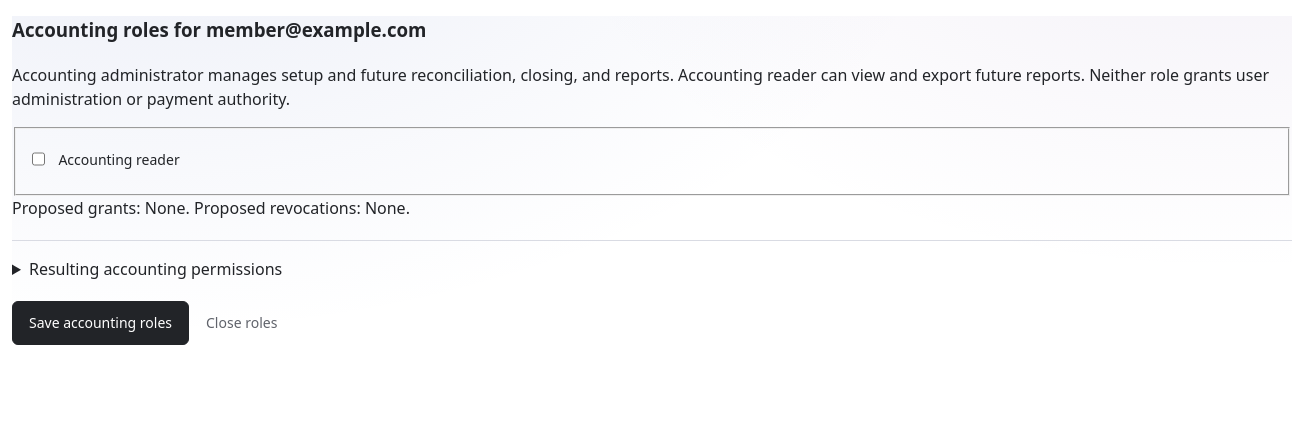
it: reads current membership after a historical replay receipt instead of resurrecting its grants
Click the checkbox labelled "Accounting reader": [38, 159] box [32,137,45,181]
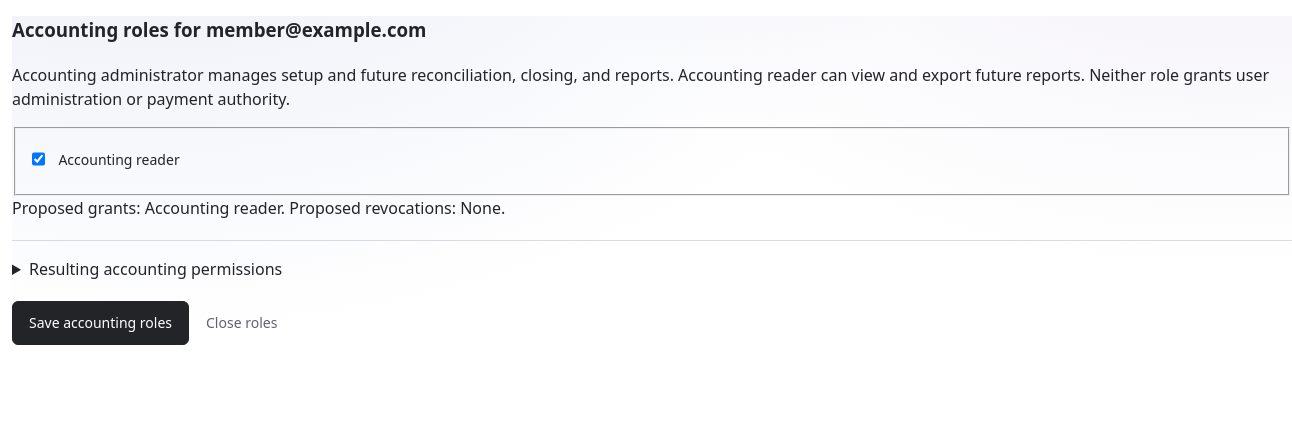
Note: WHEN the command succeeds THEN the editor shows current membership from readback
Click the button "Save accounting roles": [100, 323] box [12,301,189,345]
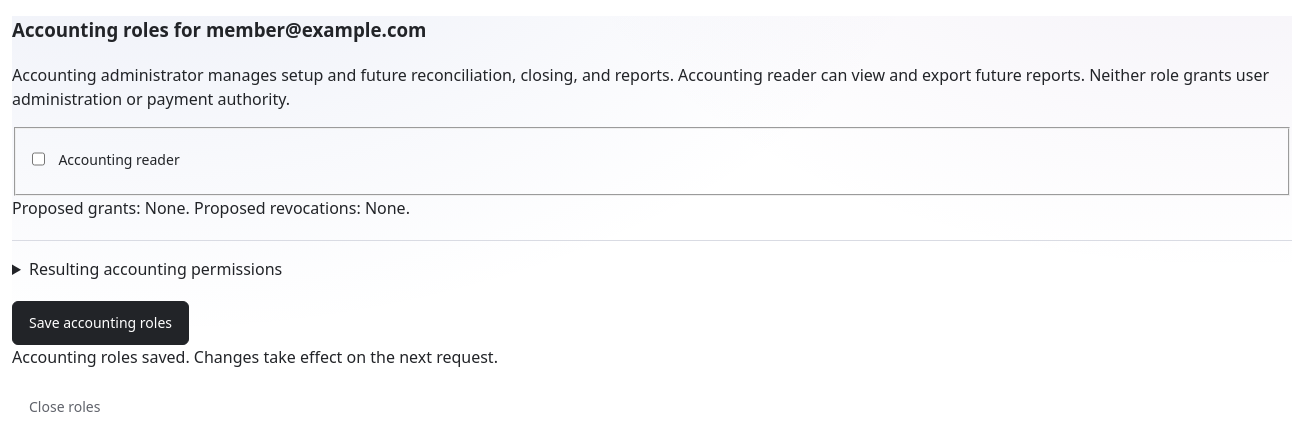
Now the checkbox labelled "Accounting reader" is not checked, box [32,137,45,181]
Now the text "Accounting roles saved. Changes take effect on the next request." is shown, box [12,346,498,368]
